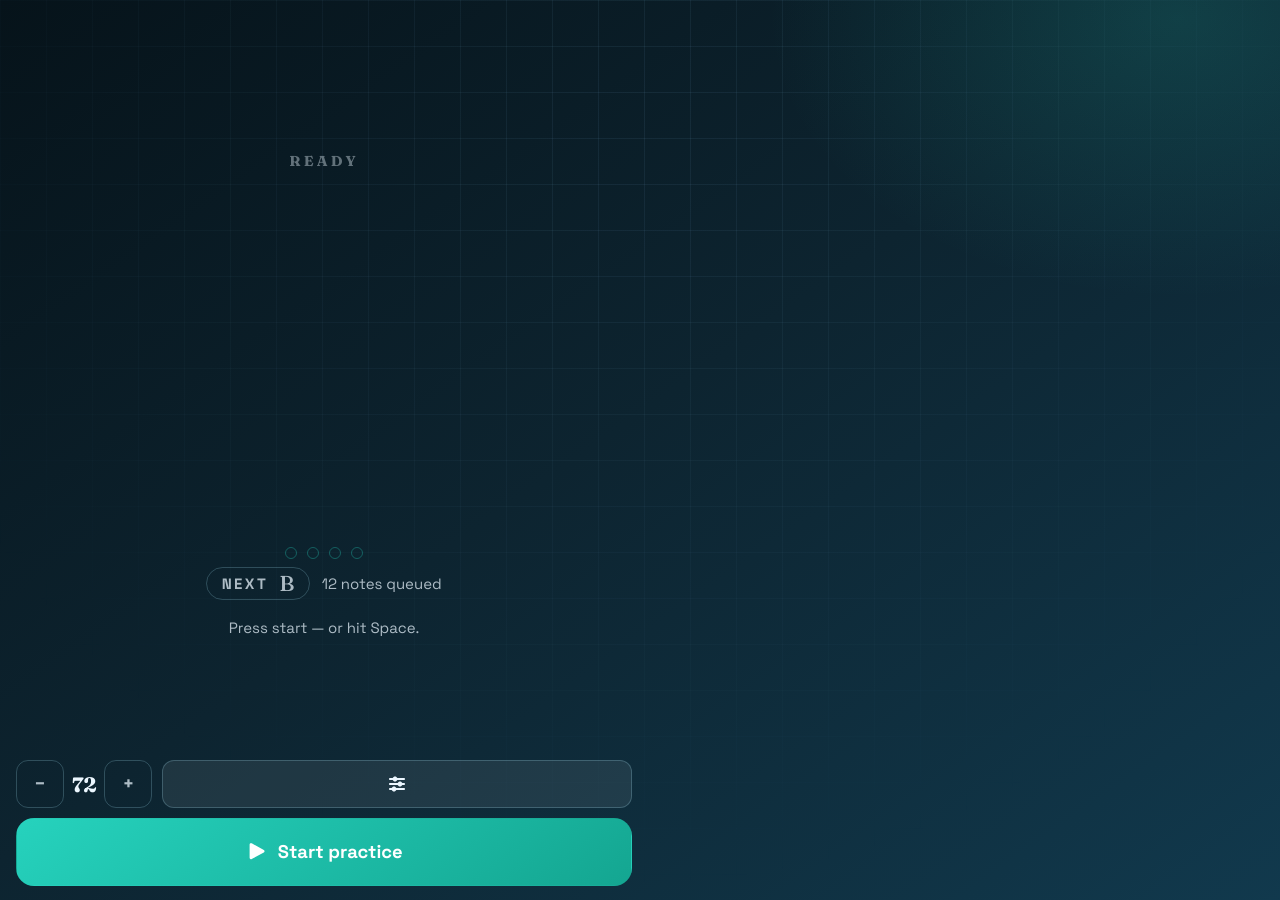
the stand reading › gives Escape to the history it opened, not to the sheet underneath it
The width and height of the screenshot is (1280, 900).
Click the button with test id "open-setup".
click(397, 784)  # box 162,760 -> 632,808
(page scrolled)
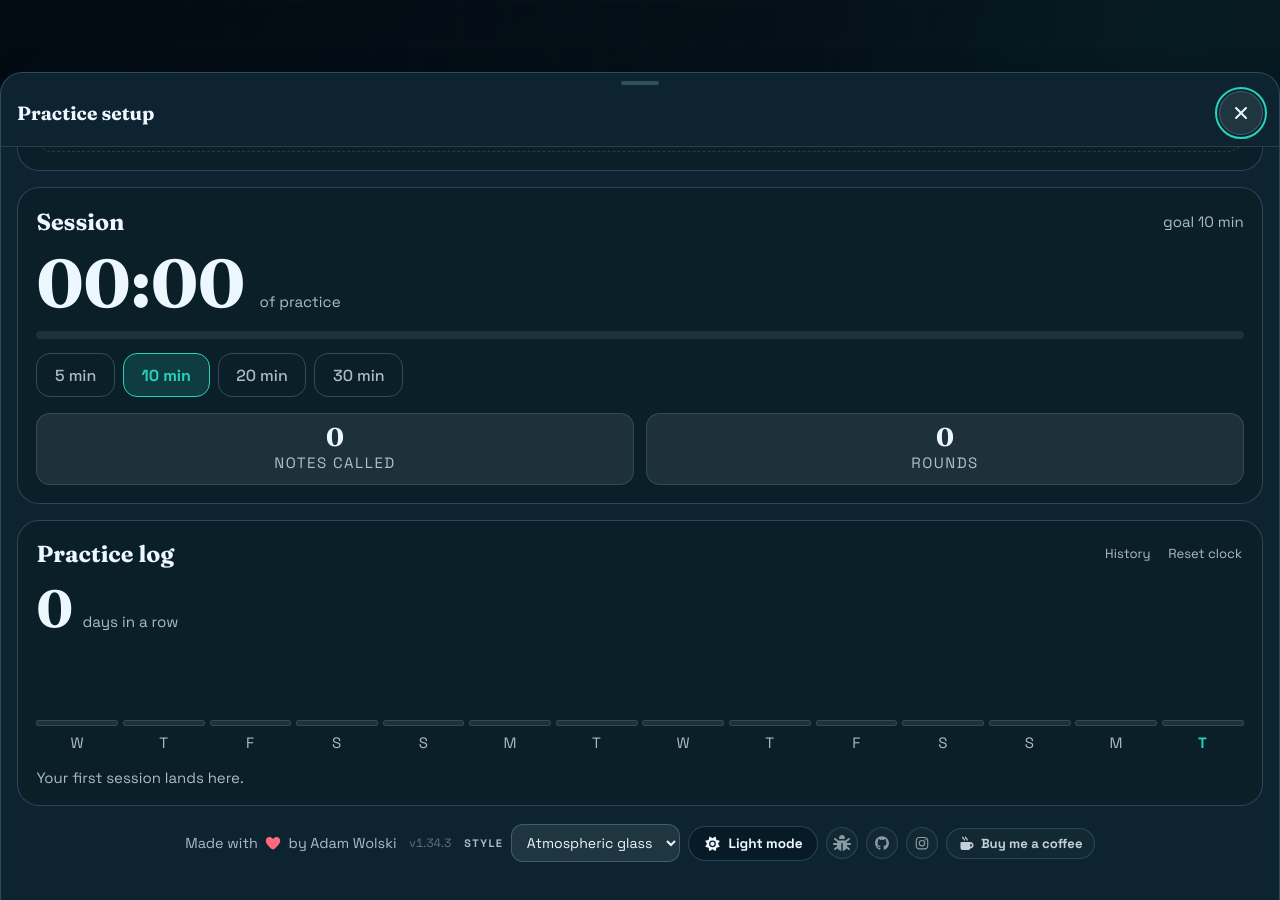
Click the button with test id "practice-log-history".
click(1128, 554)  # box 1104,542 -> 1152,566
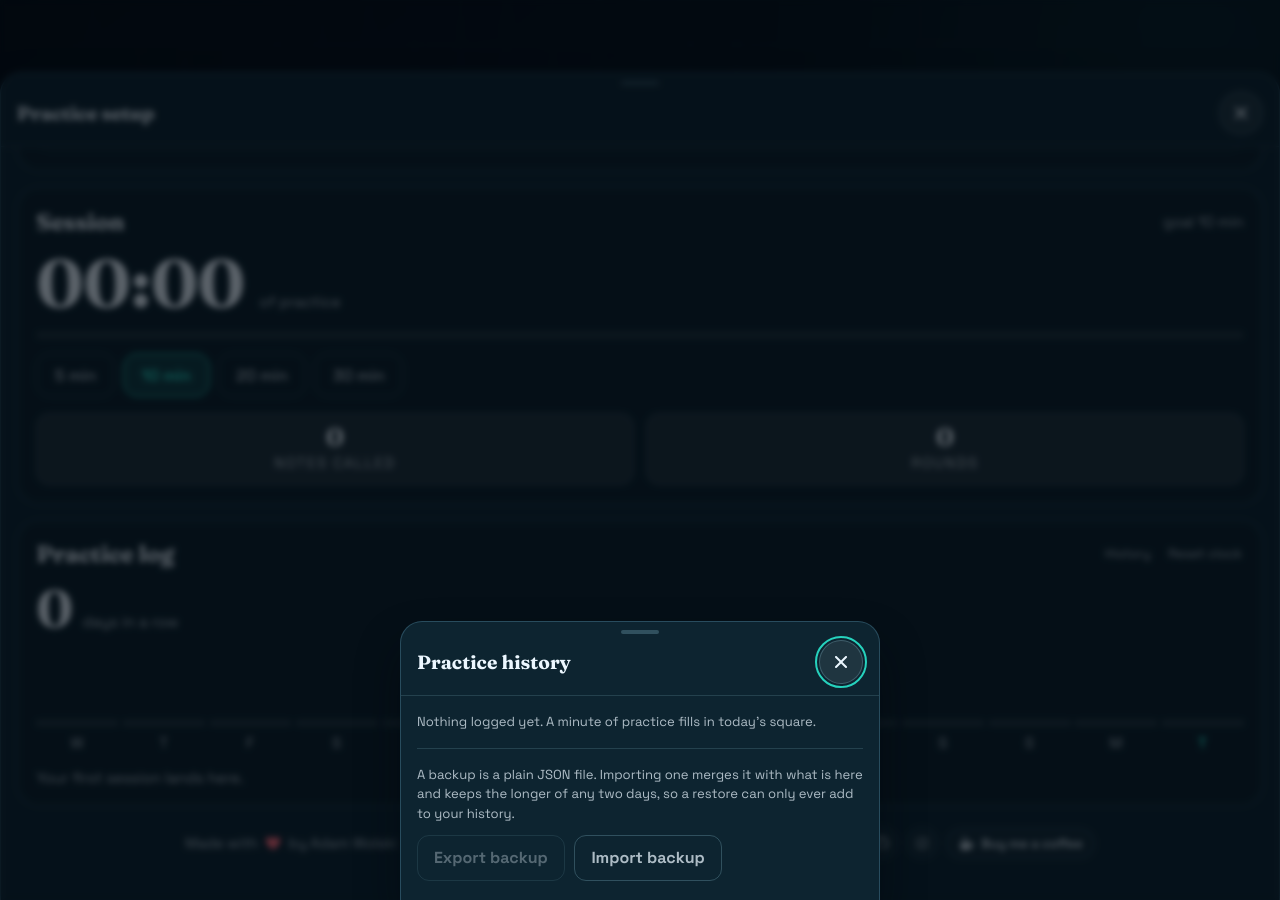
Check: the element with test id "practice-history-view" is shown
Note: As a browser dispatches it: at the focused element, on its way up.
Press Escape in the button named "Close practice history" in the row of "Practice history", box 819,640 -> 863,684
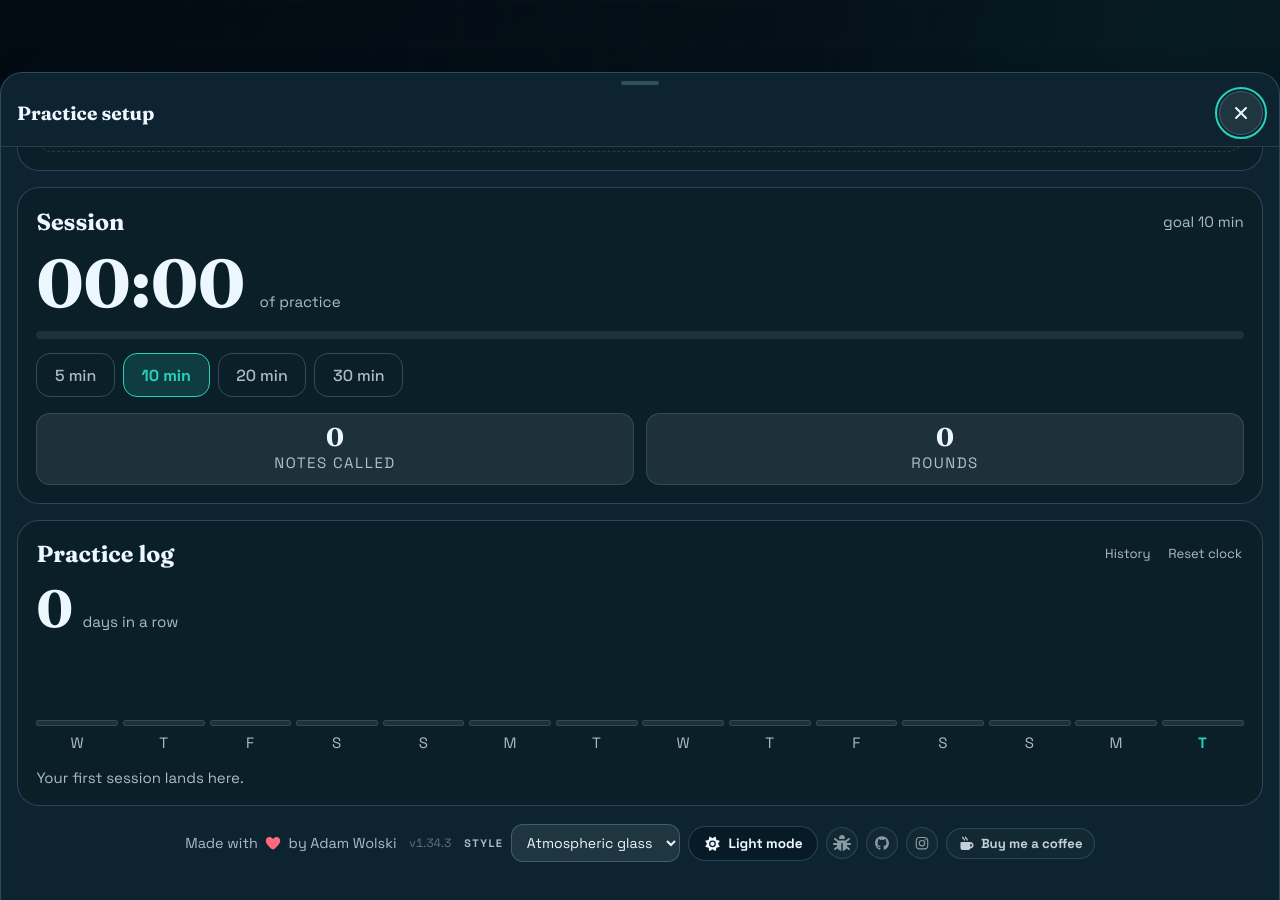
Check: the element with test id "practice-sheet" is shown
Check: the element with test id "practice-history-view" is gone
Press Escape in the button named "Close practice setup" in the row of "Practice setup", box 1219,91 -> 1263,135
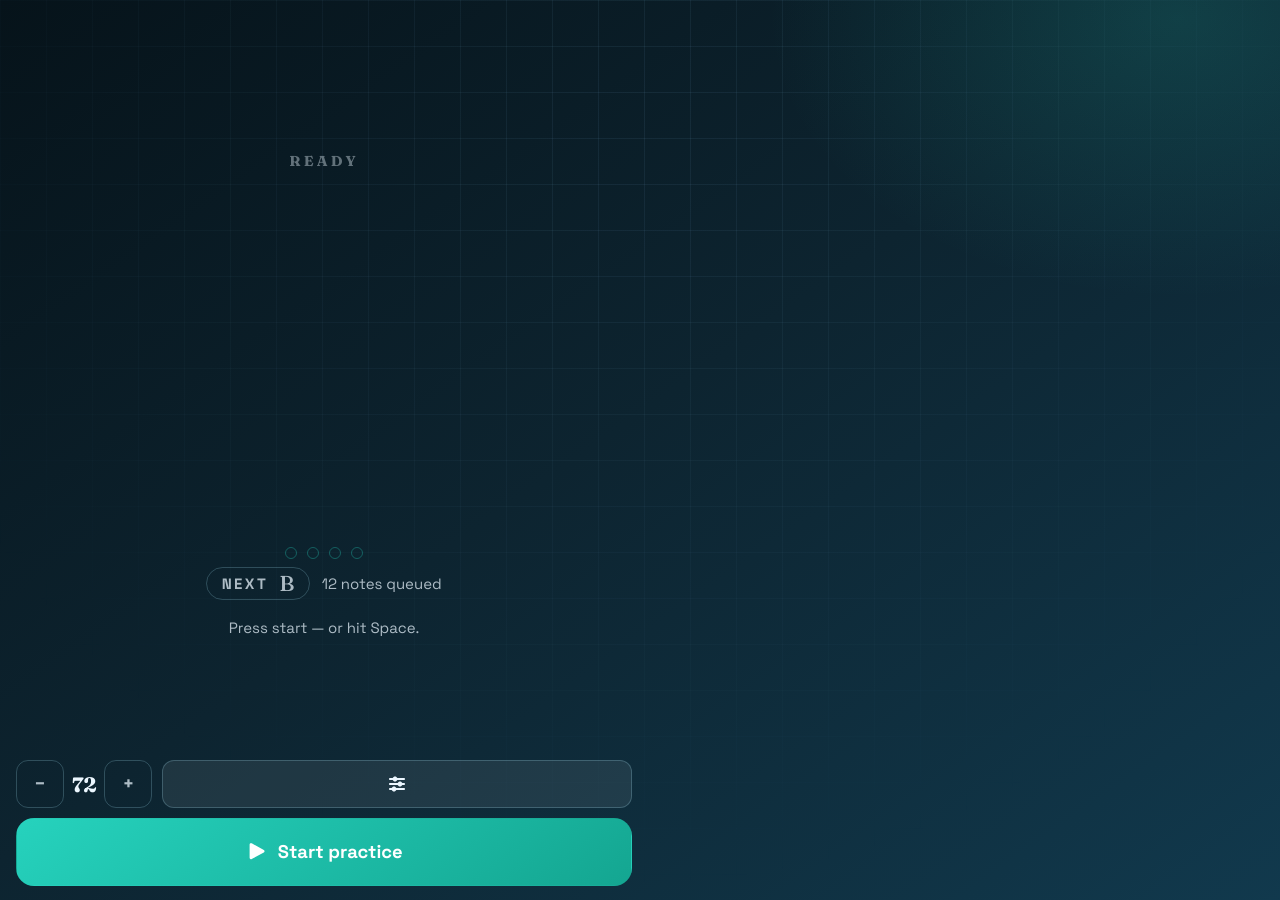
Check: the element with test id "practice-sheet" is gone
